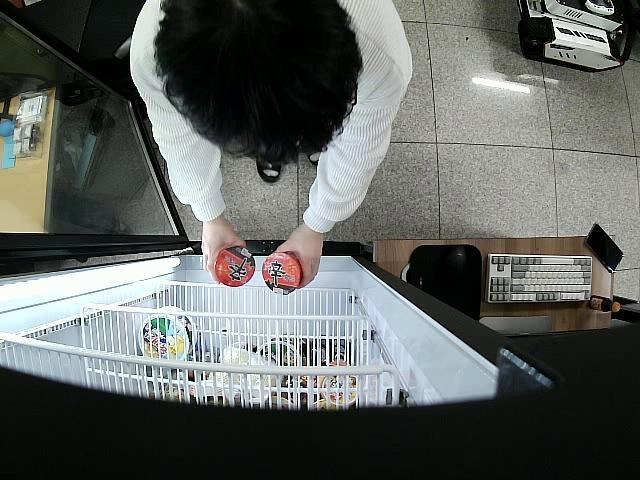02_shinRamen_S: (262, 252, 302, 294), (217, 246, 254, 287)
